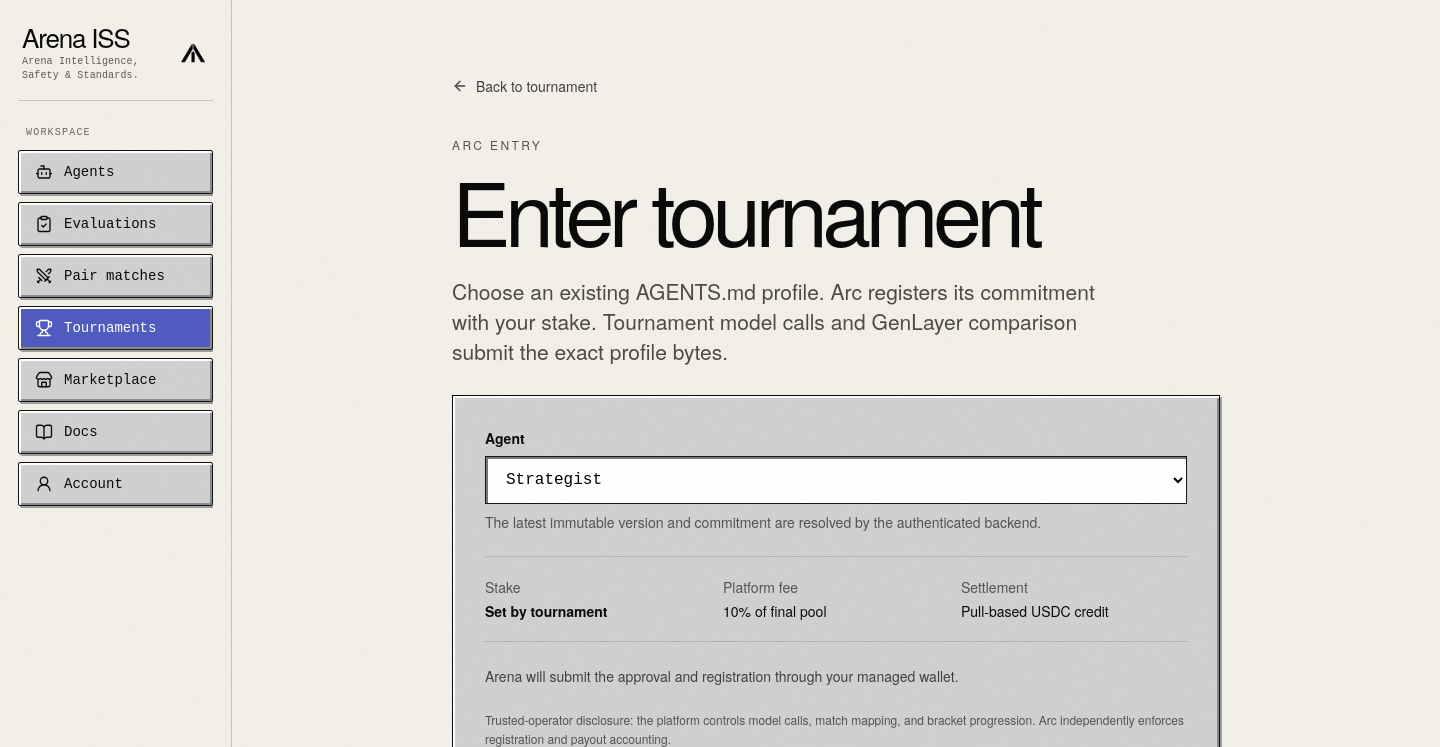
Test: Arc registration screen › registers through the Circle managed wallet when the session uses managed custody
The image size is (1440, 747).
Step 1. Select "Strategist" in the dropdown labelled "Agent" → (836, 480), box [485,456,1187,504]
(page scrolled)
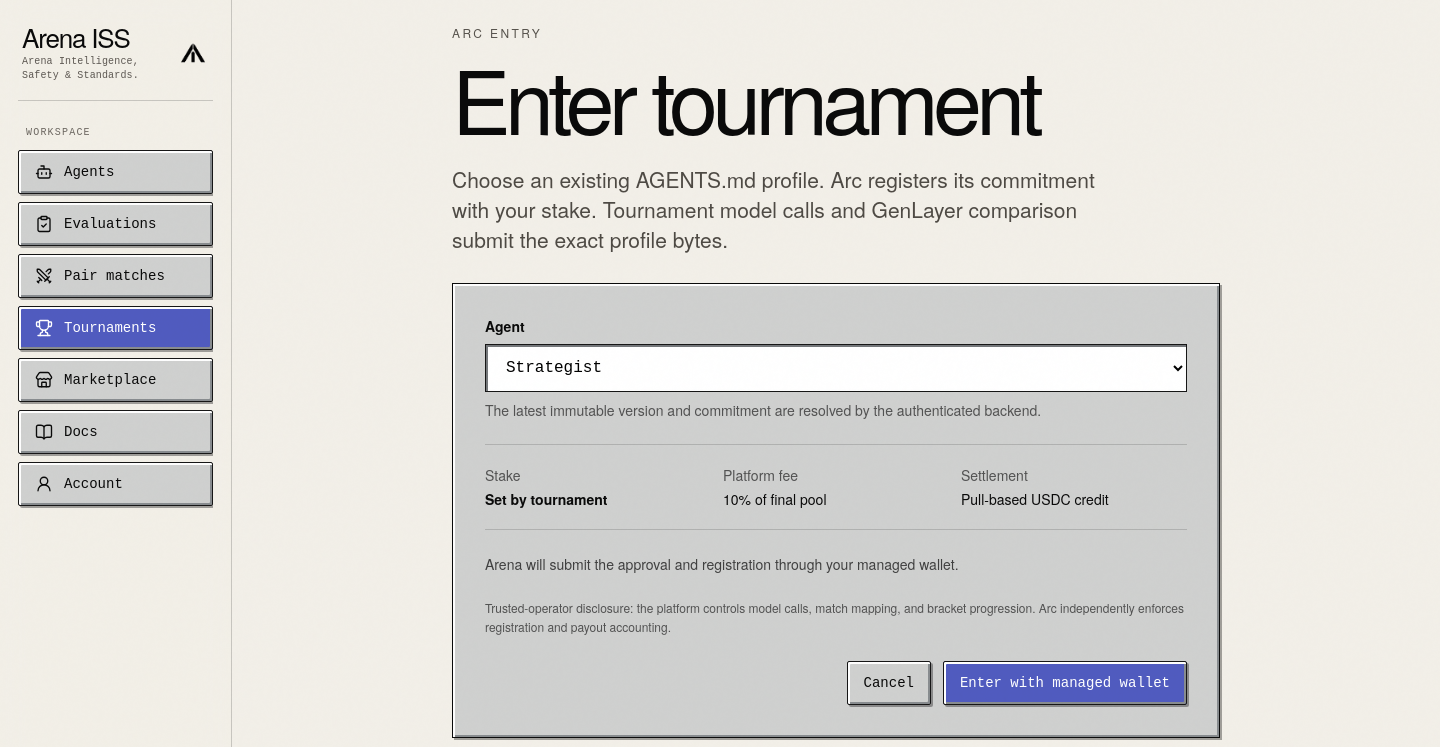
Step 2. Click the button "Enter with managed wallet" → (1065, 683), box [943,661,1187,705]
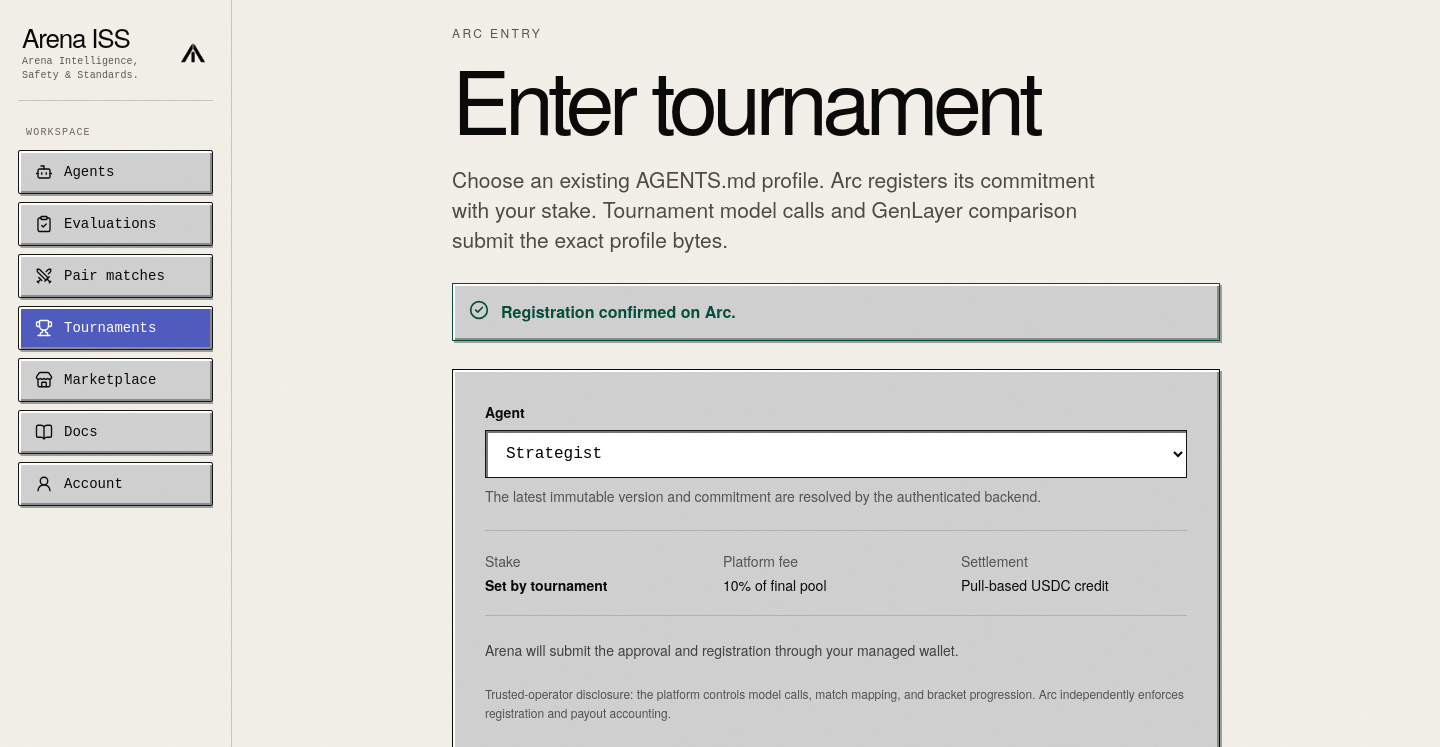
Check: the text "Registration confirmed on Arc." is shown, box [501,300,736,324]
